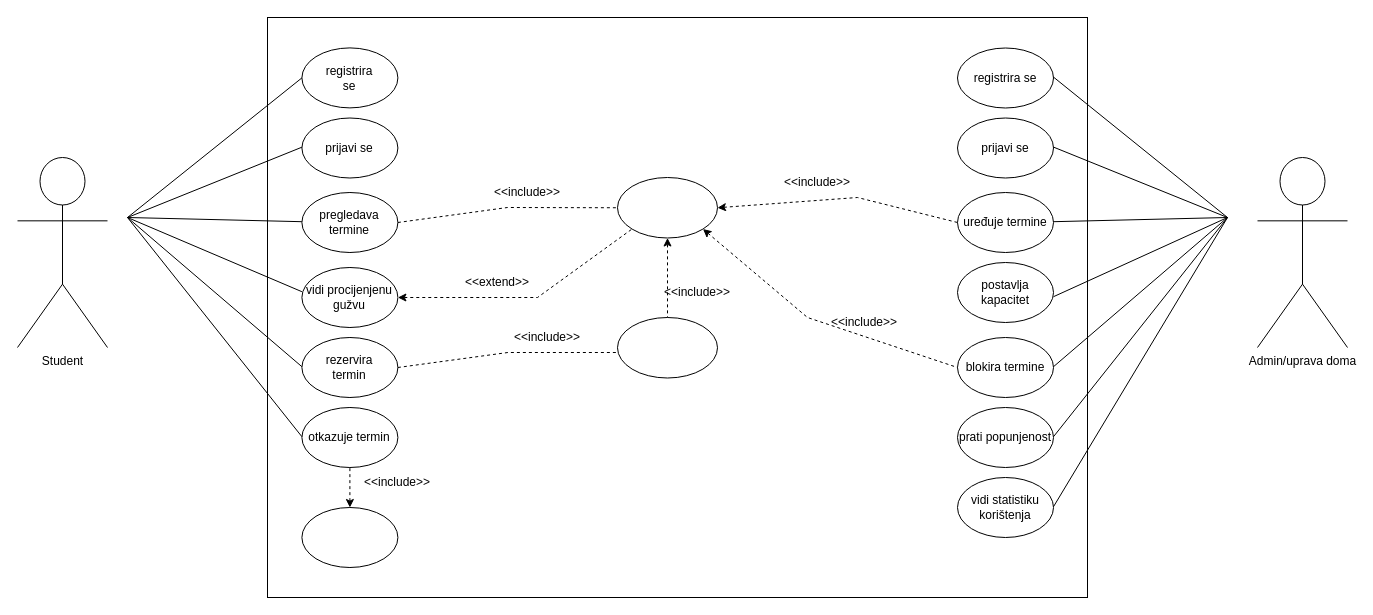
Some shapes in this 1373 by 615 pixel diagram are drawn without their labels. Here are the shapes that lost their labels. From the top down, the box of each, then its label:
(616, 176, 718, 238): prikaz dostupnih termina
(616, 316, 718, 378): provjera kapaciteta
(301, 506, 398, 568): pregleda termine
